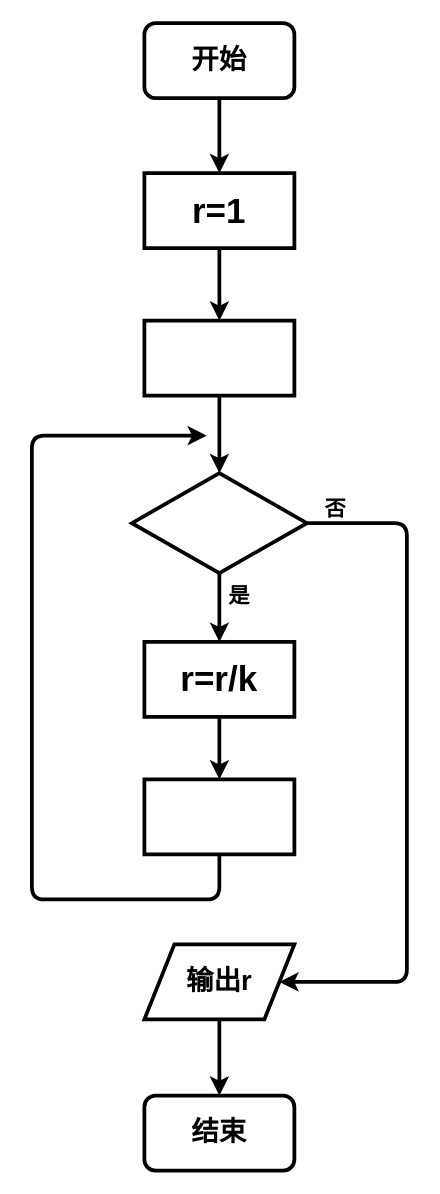
Image size: 440x1194. Some labels were removed from this diagram. Here are the shapes that lost their labels. From the top down, the centre of each, then its label:
the point at 219,357: k =1
the point at 218,522: k<=1000
the point at 219,816: k =k+1
